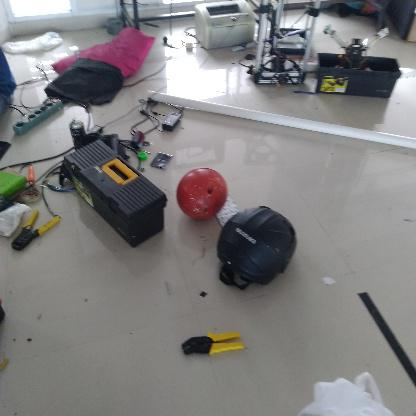red_buoy: (175, 164, 229, 223)
